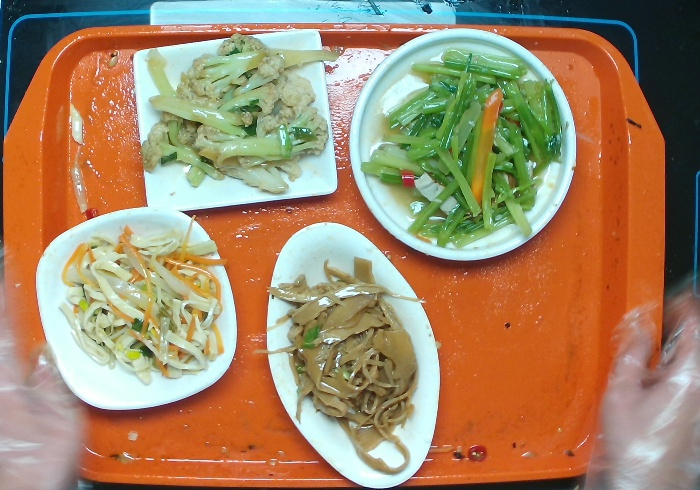HZYJPL-Si_Fang_Die: (131, 27, 341, 213)
HZYJPL-Si_Fang_Yuan_Die: (33, 204, 241, 415)
HZYJPL-Xiao_Yu_Die: (263, 221, 444, 490)
HZYJPL-Xiao_Yuan_Die: (346, 26, 580, 265)
